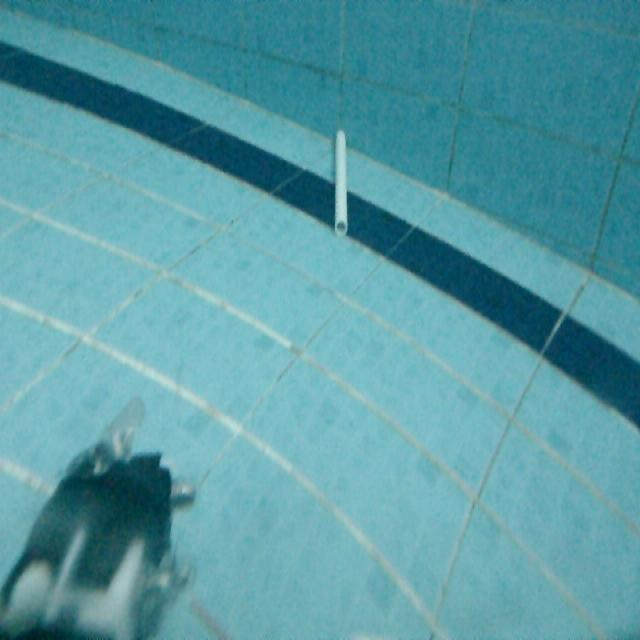Cube: (331, 125, 350, 238)
